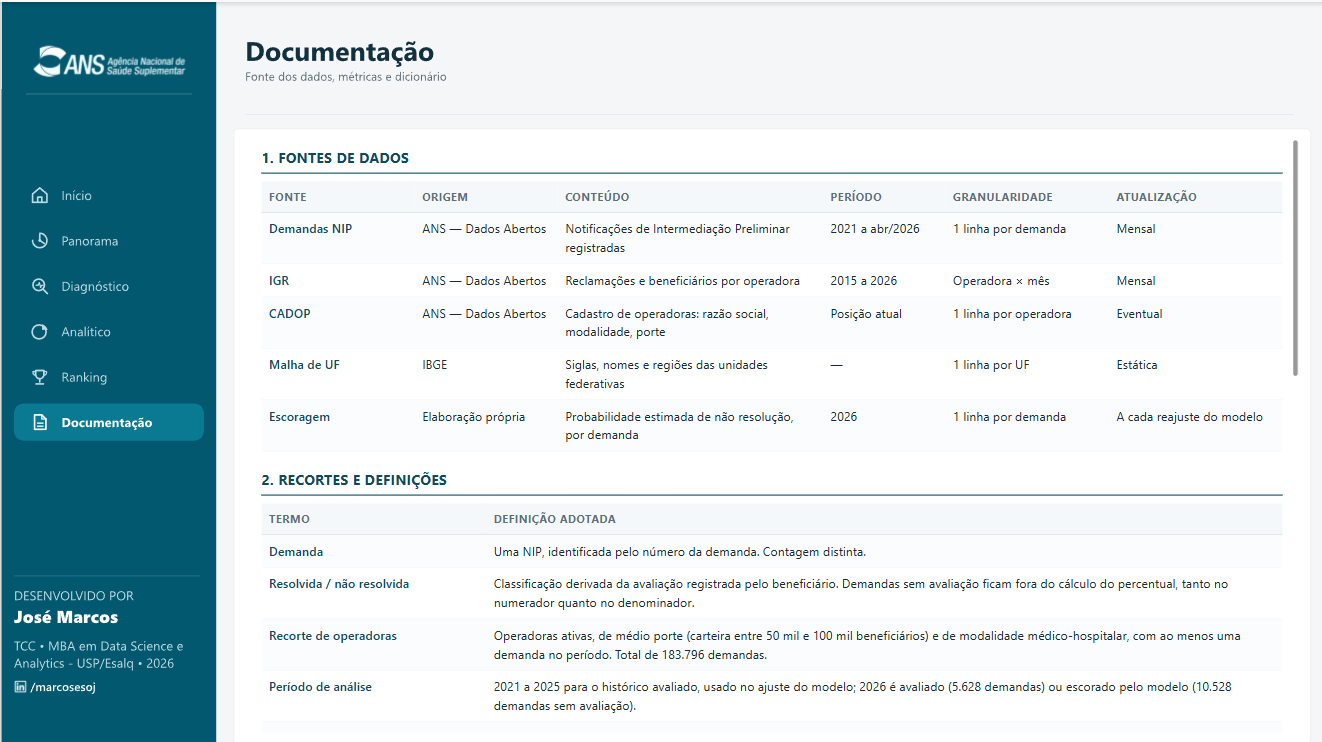

This screenshot's page, from the dashboard's own definition file:
{"tool":"powerbi","page":{"name":"Documentação","canvas":[1920,1080],"ordinal":5},"visuals":[{"type":"actionButton","box":[18.6,254.3,271.4,54.3],"z":0},{"type":"actionButton","box":[18.6,320,271.4,54.3],"z":1000},{"type":"actionButton","box":[18.6,392.9,271.4,54.3],"z":2000},{"type":"actionButton","box":[18.6,457.1,271.4,54.3],"z":3000},{"type":"actionButton","box":[18.6,524.3,271.4,54.3],"z":4000},{"type":"actionButton","box":[18.6,585.7,271.4,54.3],"z":5000},{"type":"htmlContent443BE3AD55E043BF878BED274D3A6855","fields":{"content":["Medidas.Documentacao (HTML)"]},"box":[336.1,183.5,1566.2,895.8],"z":6000},{"type":"actionButton","box":[0,979.4,178.1,29.1],"z":6001}]}

Visuals, with their boxes on the page's 1920x1080 design canvas (x1, y1, x2, y2). These are canvas units, not pixel positions in the 1322x742 screenshot, which may show the page scaled, cropped or inside an application window:
actionButton: <box>19,254,290,309</box>
actionButton: <box>19,320,290,374</box>
actionButton: <box>19,393,290,447</box>
actionButton: <box>19,457,290,511</box>
actionButton: <box>19,524,290,579</box>
actionButton: <box>19,586,290,640</box>
htmlContent443BE3AD55E043BF878BED274D3A6855 - Medidas.Documentacao (HTML): <box>336,184,1902,1079</box>
actionButton: <box>0,979,178,1008</box>
